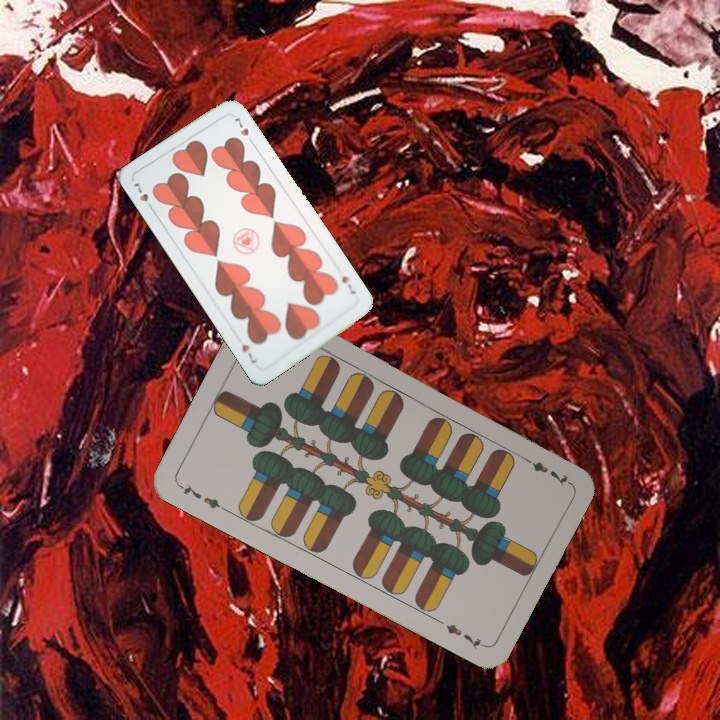E7: (518, 453, 572, 488), (175, 480, 230, 514)
H7: (129, 177, 156, 213), (338, 272, 359, 297)
